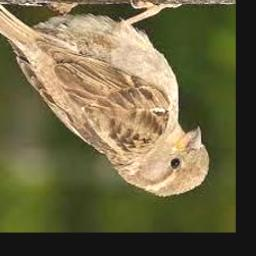Sparrow: (0, 0, 208, 197)
